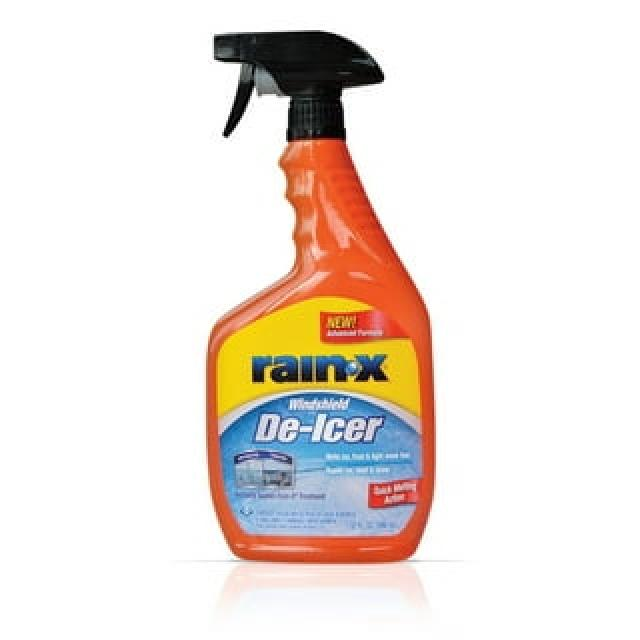winwinshield_washer: (203, 23, 442, 572)
